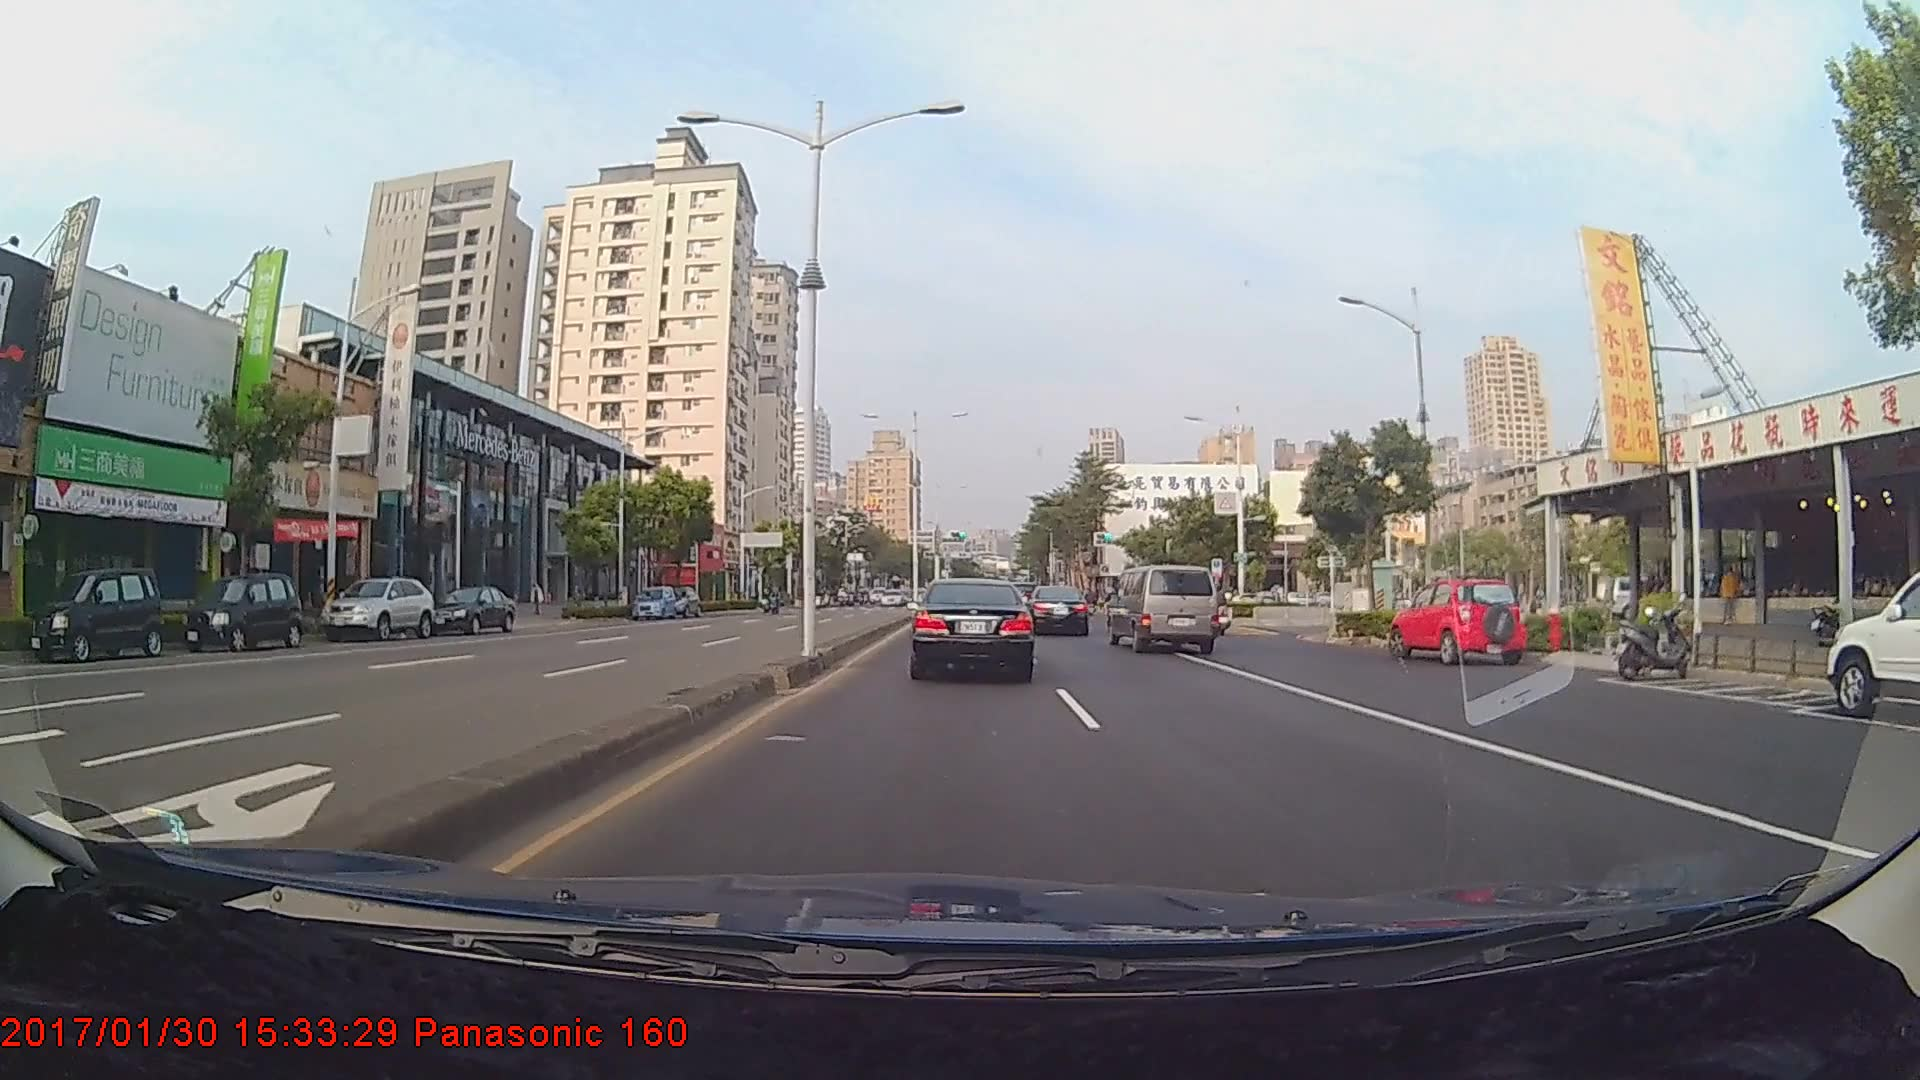pedestrian: (1720, 562, 1745, 630)
vehicle: (1826, 574, 1918, 720), (27, 566, 164, 662), (908, 576, 1034, 680), (1391, 576, 1522, 668), (1106, 563, 1219, 653), (191, 573, 298, 653), (321, 576, 435, 642), (427, 582, 513, 633), (1022, 585, 1091, 638), (629, 582, 675, 619), (658, 584, 702, 617)
